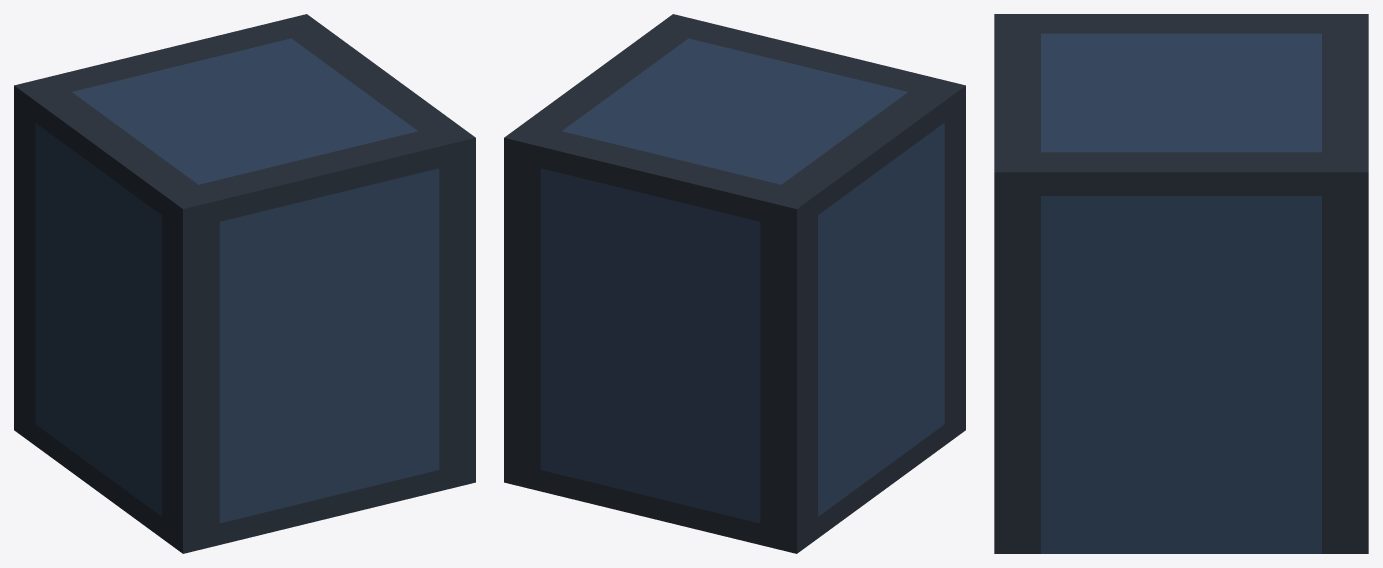
Rendered from Drawer.fbx.
The picture shows the model from 3 angles, left to right: view 1: azimuth 30°, elevation 25°; view 2: azimuth 150°, elevation 25°; view 3: azimuth 270°, elevation 25°; orthographic projection. The views are drawn at different scales.
Visible parts, largest first — view 1: Drawer; view 2: Drawer; view 3: Drawer.
Part boxes in pixels (<box>): Drawer: <box>14,14,475,553</box>; Drawer: <box>504,14,965,553</box>; Drawer: <box>994,14,1368,553</box>.
Size of the model in its own units: 100 by 113 by 100.
